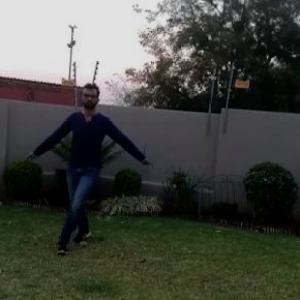land: (27, 86, 143, 245)
